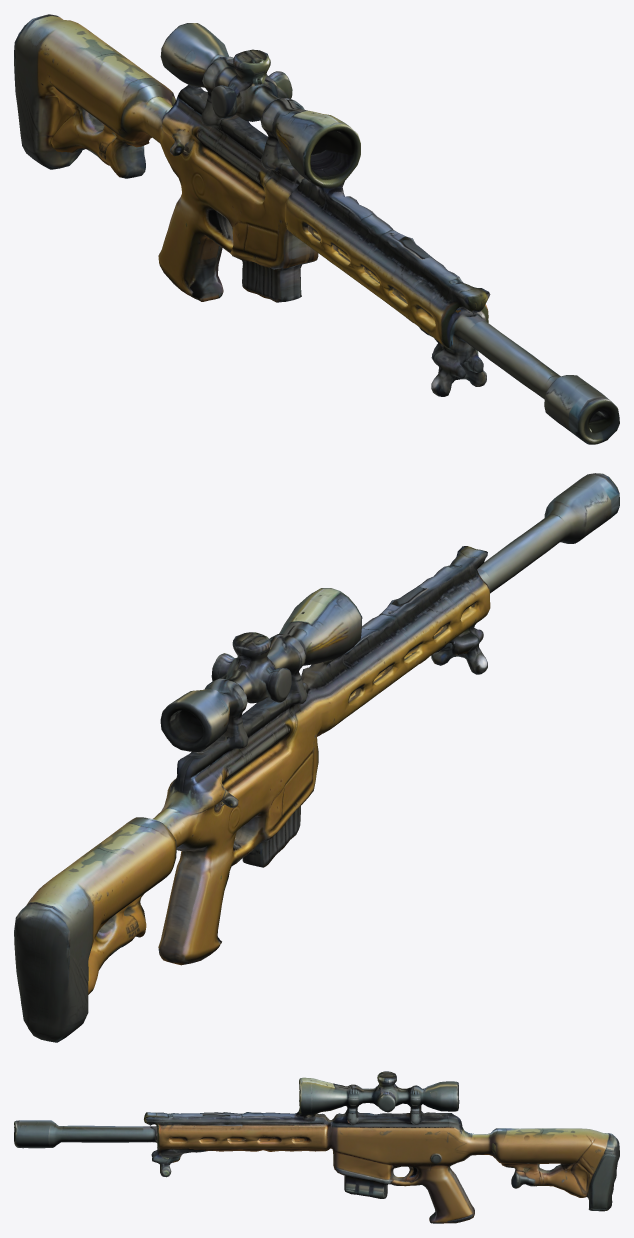
File: sniper.fbx
3 renders of one model, top to bottom at view 1: azimuth 30°, elevation 25°; view 2: azimuth 150°, elevation 25°; view 3: azimuth 270°, elevation 25°, orthographic. The views are drawn at different scales.
Visible parts, largest first — view 1: Mesh_0; view 2: Mesh_0; view 3: Mesh_0.
Part boxes in pixels (x1,y1,x2,y2): Mesh_0: (14, 14, 619, 444); Mesh_0: (14, 473, 619, 1042); Mesh_0: (14, 1071, 619, 1223).
Bounding box in the file's own units: 14 × 53.57 × 200.
Materials: 1 (1 with a texture image).
